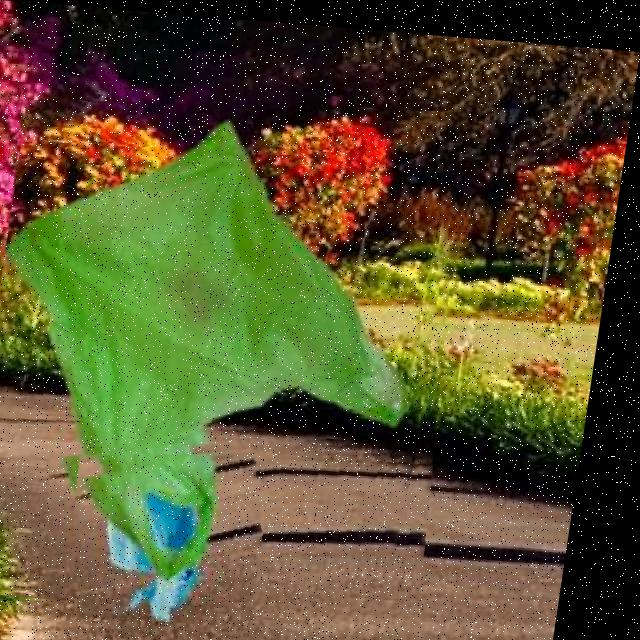plasticcover: (0, 82, 488, 620), (75, 433, 288, 623)
